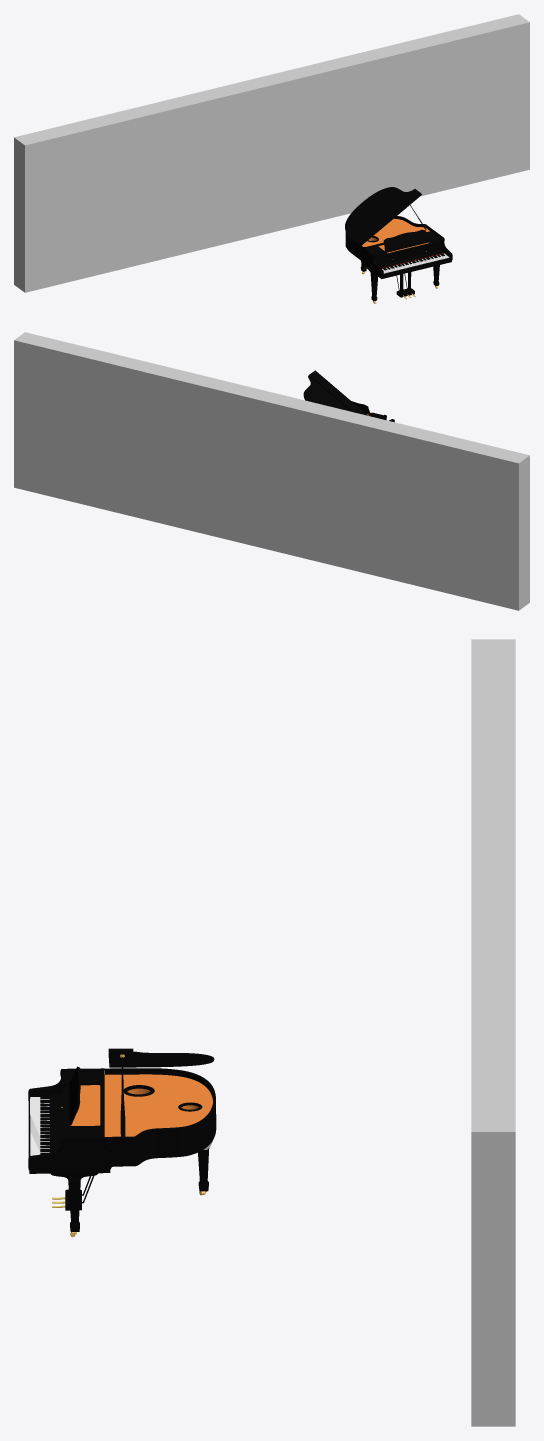
File: environment.glb
3 renders of one model, top to bottom at view 1: azimuth 30°, elevation 25°; view 2: azimuth 150°, elevation 25°; view 3: azimuth 270°, elevation 25°, orthographic. The views are drawn at different scales.
Parts seen in each view (by area): view 1: Cube, Line10, Line07, Rectangle01, Box02, Line06, Box05, Plane01; view 2: Cube, Line10, Rectangle01; view 3: Cube, Line07, Line06, Box03, Line10, Plane01.
Boxes of the visible parts, bbox=[...] form: Cube: bbox=[14, 14, 529, 292]; Line10: bbox=[345, 187, 421, 245]; Line07: bbox=[362, 218, 429, 253]; Rectangle01: bbox=[354, 189, 421, 244]; Box02: bbox=[383, 229, 427, 250]; Line06: bbox=[345, 216, 432, 262]; Box05: bbox=[375, 240, 441, 261]; Plane01: bbox=[365, 231, 441, 255]; Cube: bbox=[14, 332, 529, 610]; Line10: bbox=[303, 375, 350, 411]; Rectangle01: bbox=[309, 370, 368, 415]; Cube: bbox=[471, 639, 515, 1426]; Line07: bbox=[70, 1074, 212, 1136]; Line06: bbox=[104, 1068, 216, 1169]; Box03: bbox=[28, 1135, 104, 1170]; Line10: bbox=[108, 1051, 214, 1067]; Plane01: bbox=[62, 1071, 104, 1135].
Size of what is drawn, in the model's own units: 52.55 by 14.66 by 21.95.
